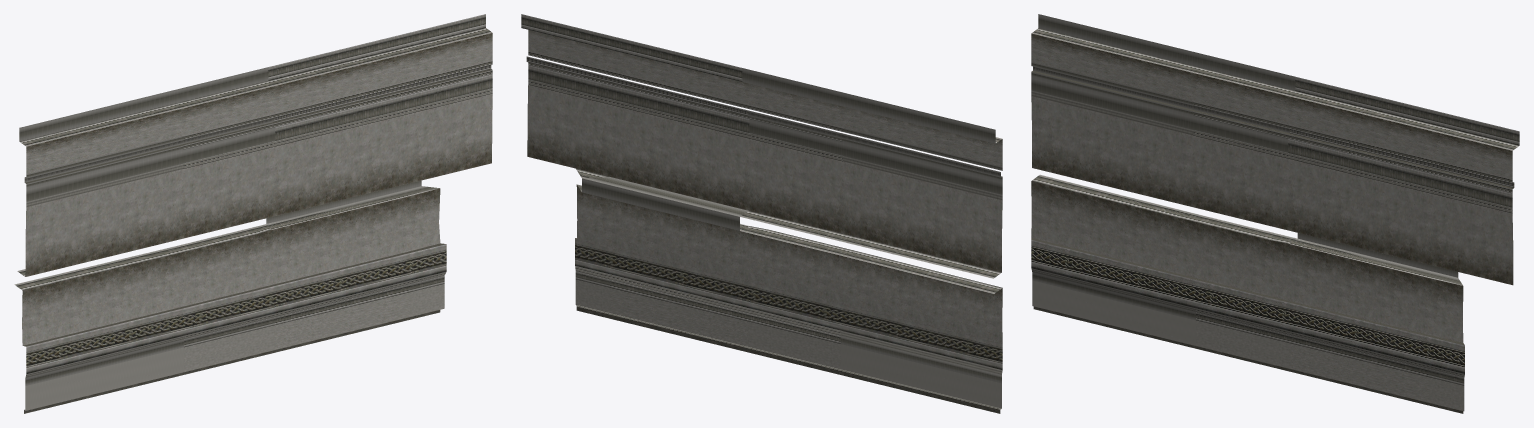
Rendered from DWARF_PALACE_FORGE_BACKWALL02.fbx.
3 views of the same model, side by side, from view 1: azimuth 30°, elevation 25°; view 2: azimuth 150°, elevation 25°; view 3: azimuth 330°, elevation 25° (orthographic). The views are drawn at different scales.
Visible parts, largest first — view 1: DWARF_PALACE_FORGE_BACKWALL02; view 2: DWARF_PALACE_FORGE_BACKWALL02; view 3: DWARF_PALACE_FORGE_BACKWALL02.
Part boxes in pixels (box(x1,y1,x2,y2)): DWARF_PALACE_FORGE_BACKWALL02: box(14, 14, 492, 413); DWARF_PALACE_FORGE_BACKWALL02: box(521, 14, 1002, 413); DWARF_PALACE_FORGE_BACKWALL02: box(1031, 14, 1519, 413).
Bounding box in the file's own units: 355365 × 205001 × 13345.
Materials: 7 (7 with a texture image).
